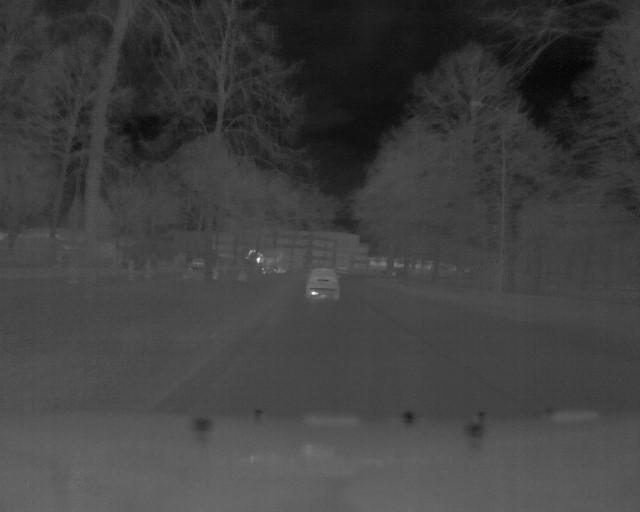car: (303, 266, 341, 305)
